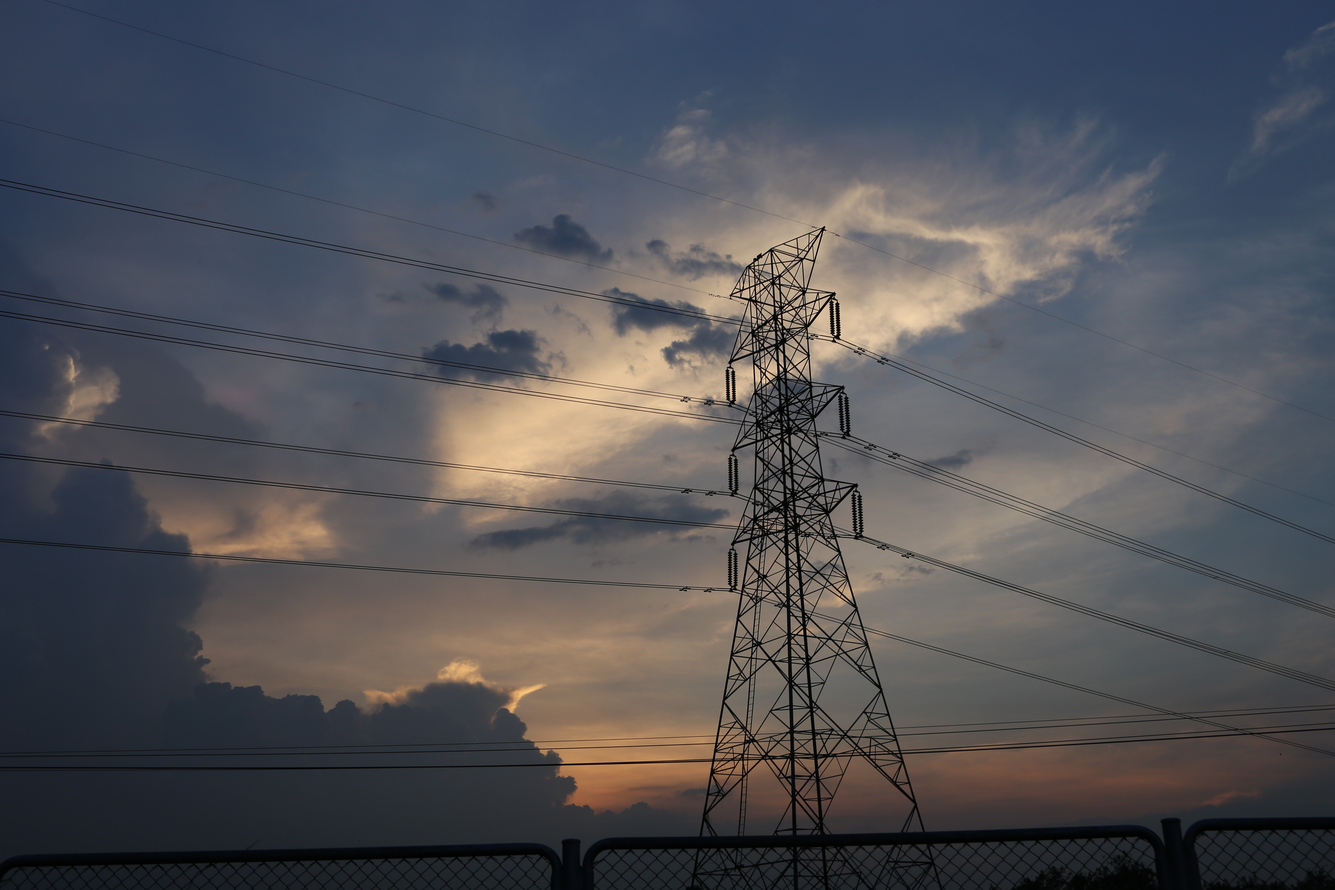insulator: (848, 488, 866, 538), (836, 389, 853, 438), (725, 453, 740, 497), (828, 297, 842, 341), (726, 547, 739, 592), (724, 364, 737, 405)
